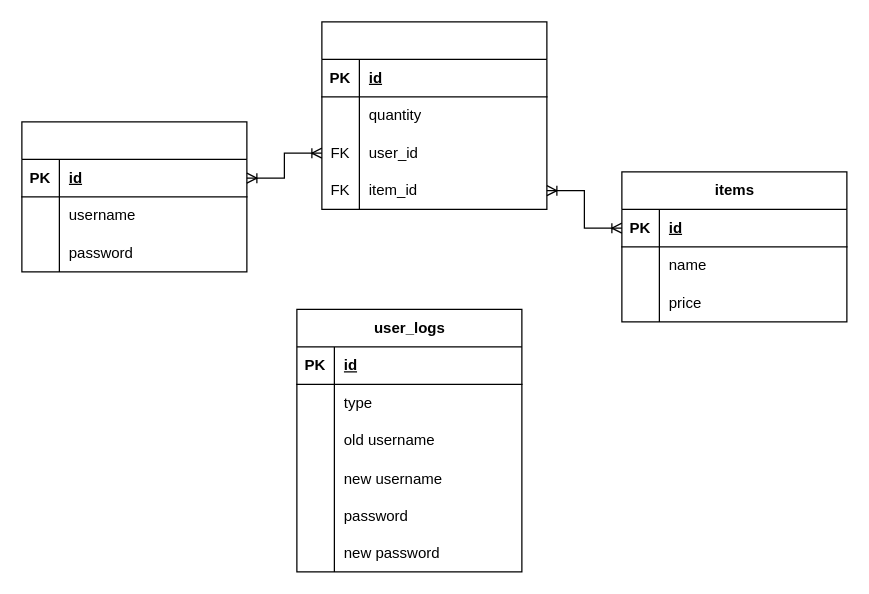
Some shapes in this 869 by 594 pixel diagram are drawn without their labels. Here are the shapes that lost their labels. From the top down, the box of each, then its label:
(321, 21, 547, 209): orders
(21, 121, 247, 272): users
